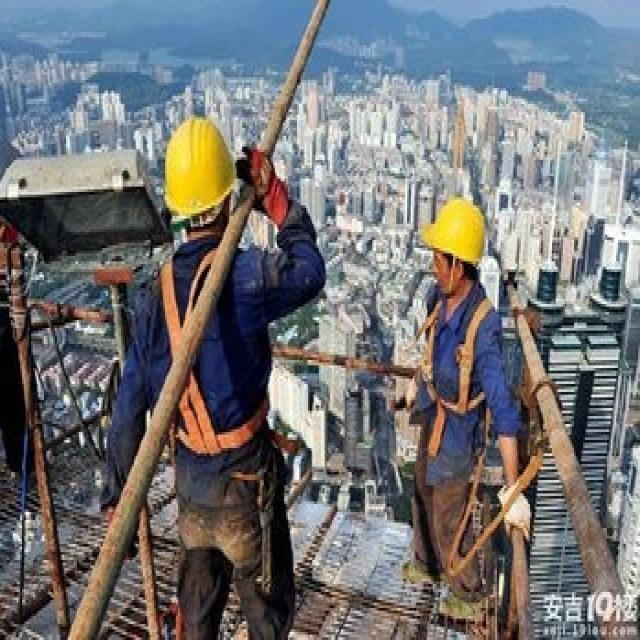Arnes_seguridad: (156, 238, 275, 462), (418, 280, 499, 432)
